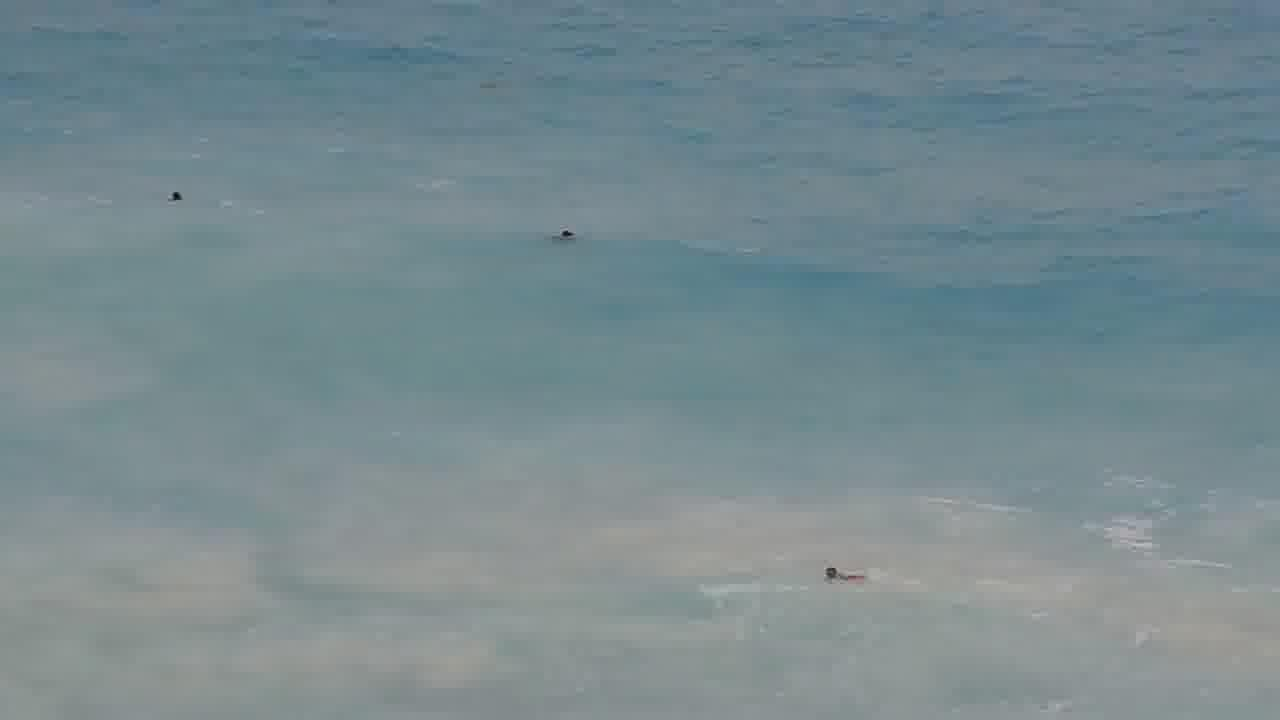human: (808, 558, 860, 602), (550, 207, 584, 254), (150, 181, 191, 215)
